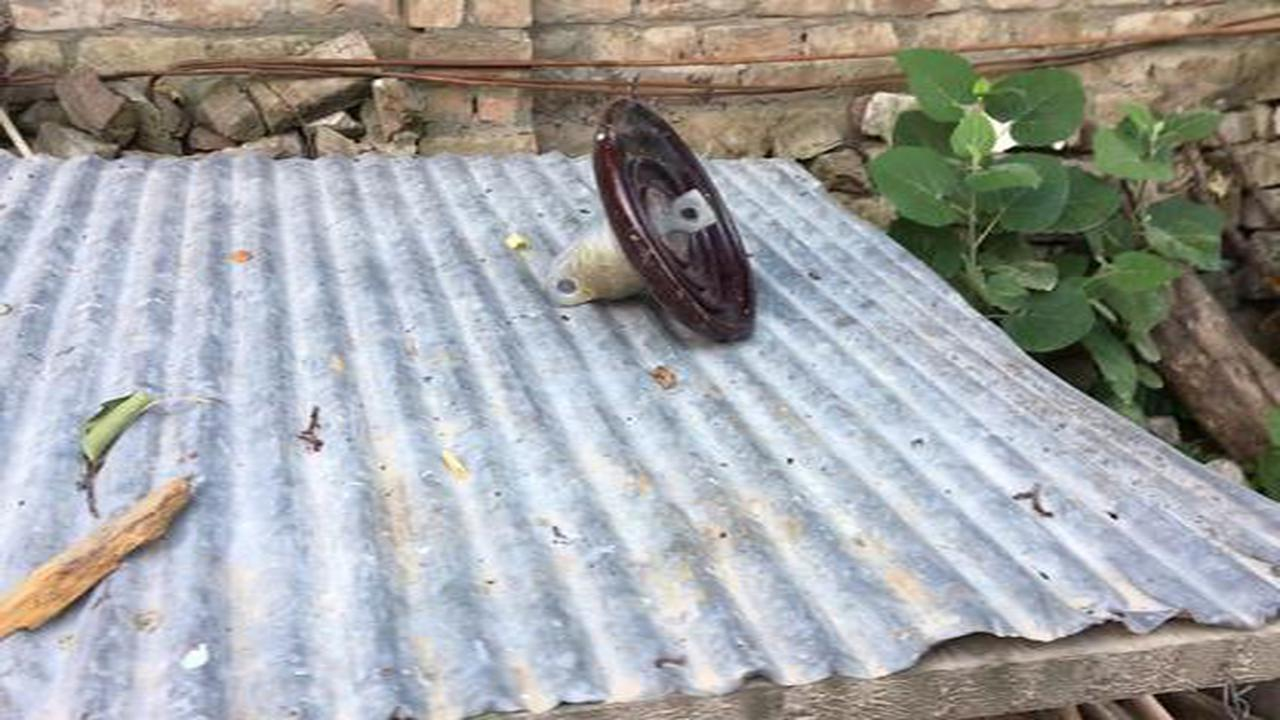insulator_disc: (549, 94, 763, 349)
